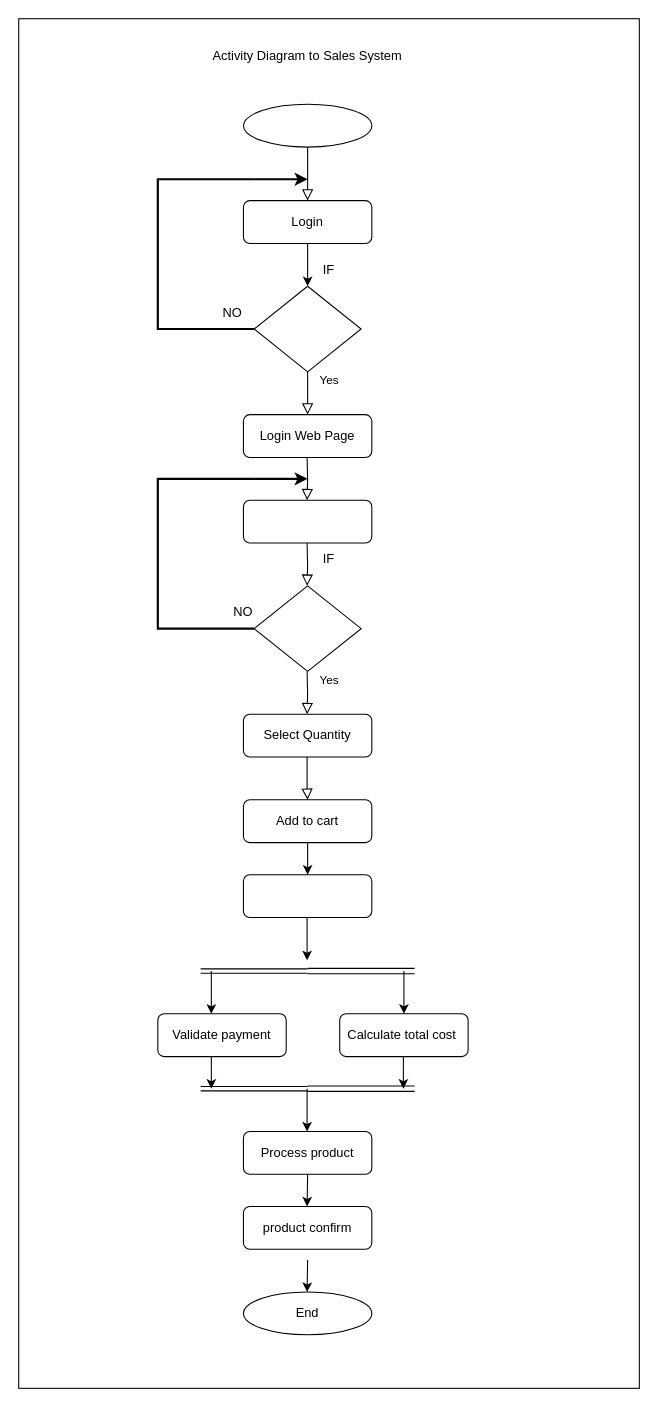
Some shapes in this 658 by 1407 pixel diagram are drawn without their labels. Here are the shapes that lost their labels. From the top down, the centre of each, then its label:
At point (307, 125): "Start".
At point (307, 328): "user & Password true".
At point (307, 521): "Select Product".
At point (307, 628): "Availability".
At point (307, 896): "Select Payment Methods".
